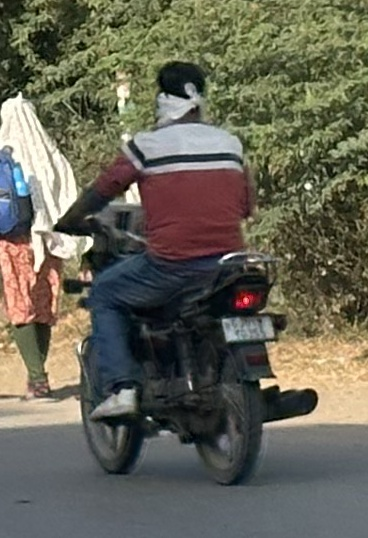BikeWithRider: (36, 53, 325, 490)
NoHelmet: (141, 55, 218, 131)
